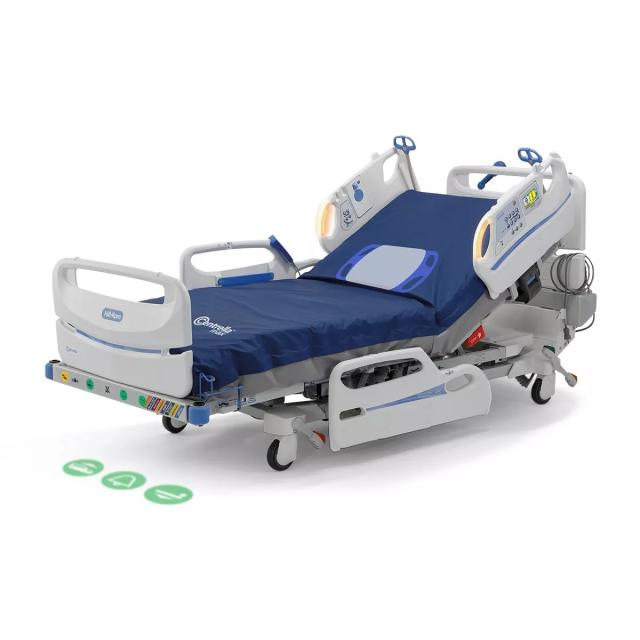patient_bed: (55, 168, 601, 419)
